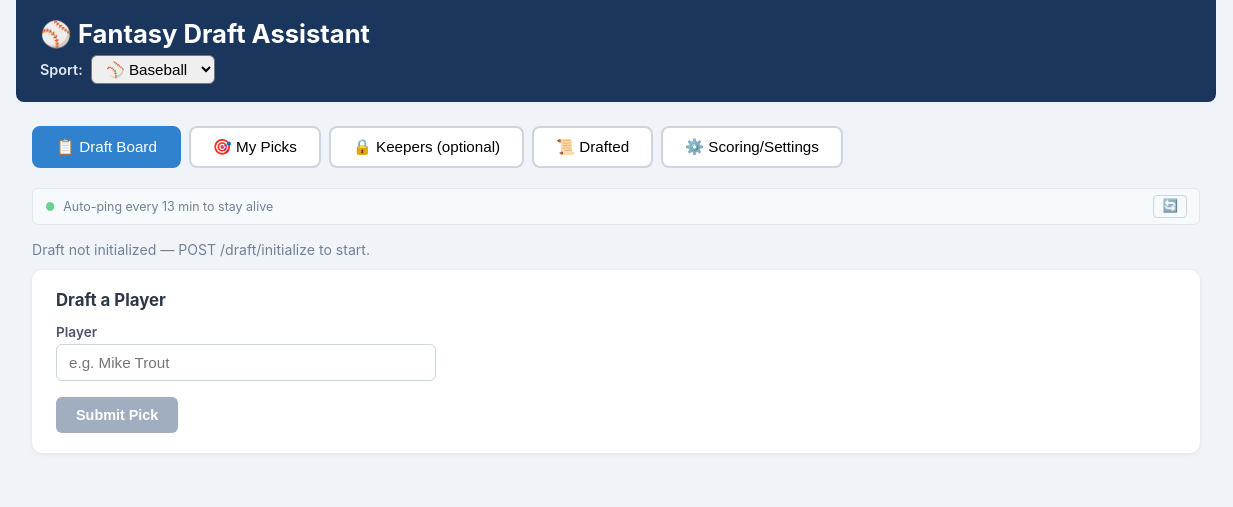
Test: Drafted tab › shows drafted picks in order with round numbers
Click the tab "📜 Drafted" at [593, 147], box [532,126,653,168]
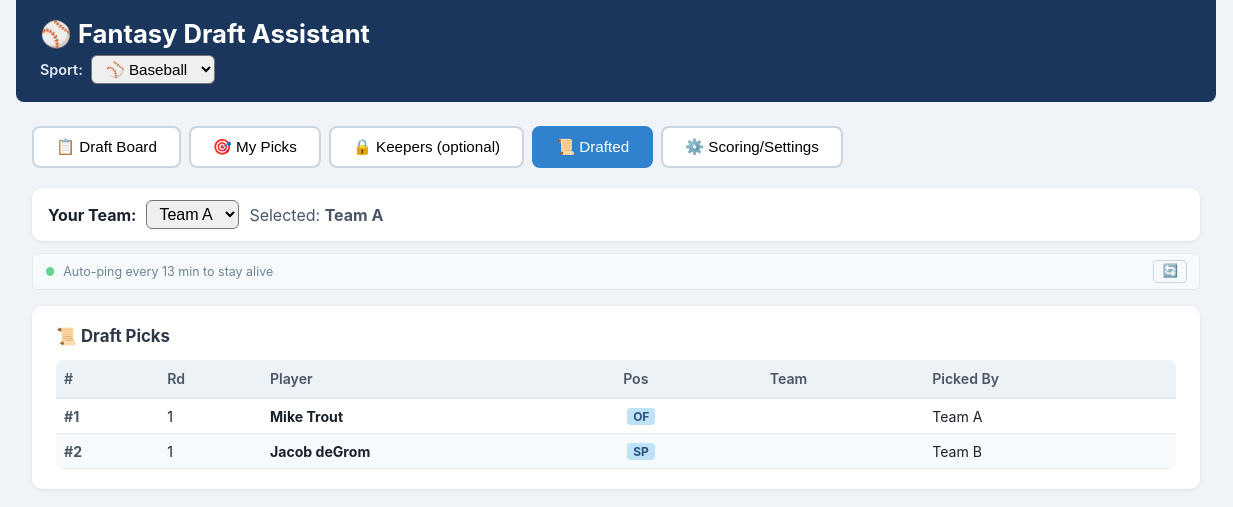
Expected: the text "Mike Trout" is shown, [270,408,343,425]
Expected: the text "Jacob deGrom" is shown, [270,443,370,460]
Expected: the text "#1" is shown, [56,398,159,434]
